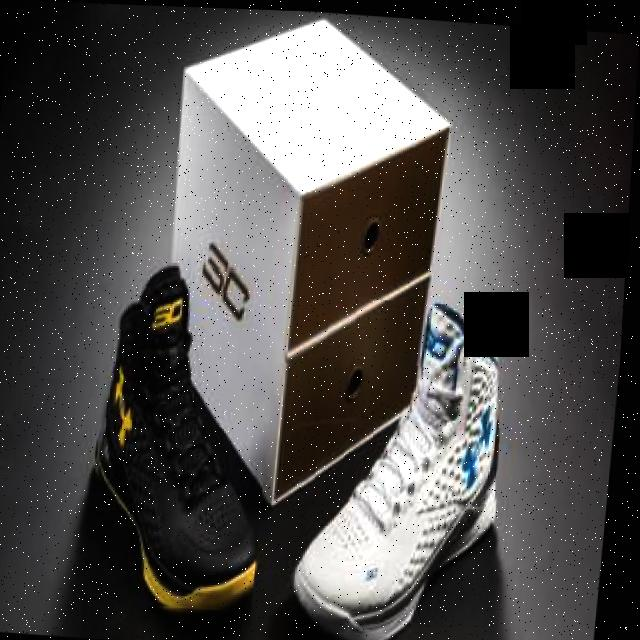shoe: (292, 292, 516, 640), (86, 257, 286, 611)
